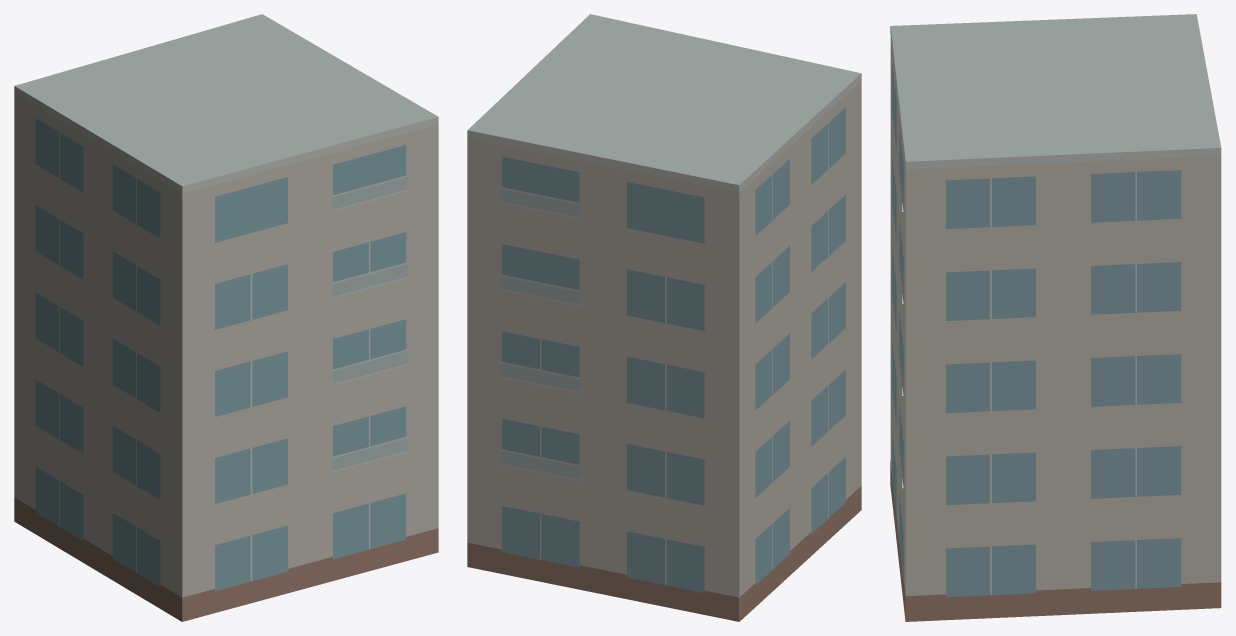
File: survey-upis-32577428.glb
3 views of the same model, side by side, from view 1: azimuth 30°, elevation 25°; view 2: azimuth 150°, elevation 25°; view 3: azimuth 270°, elevation 25° (orthographic). The views are drawn at different scales.
Parts seen in each view (by area): view 1: survey-upis-32577428.tmp; view 2: survey-upis-32577428.tmp; view 3: survey-upis-32577428.tmp.
Boxes of the visible parts, x1,y1,x2,y2 form: survey-upis-32577428.tmp: [14, 14, 438, 621]; survey-upis-32577428.tmp: [467, 14, 861, 621]; survey-upis-32577428.tmp: [890, 14, 1221, 621].
Size of the model in its own units: 9.72 by 14.1 by 9.2.
